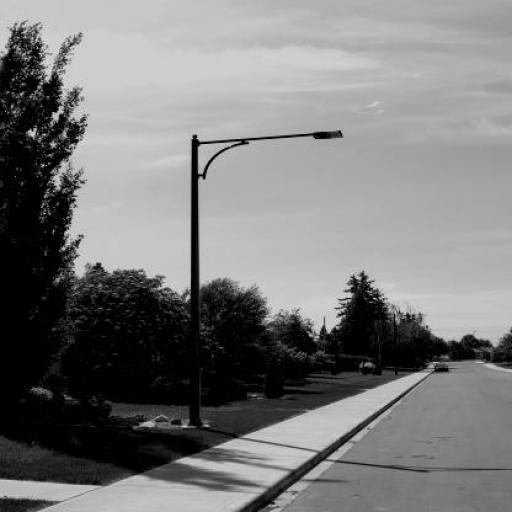street light: (187, 130, 344, 426), (394, 314, 426, 376)
